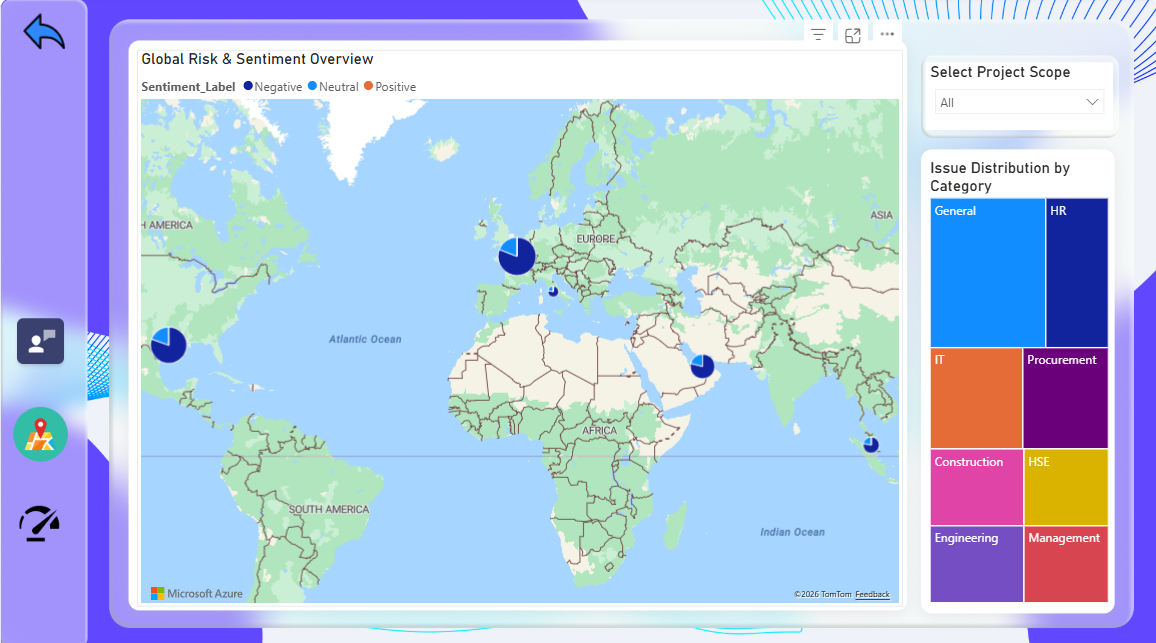

What the dashboard file says about the page in this screenshot:
{"tool":"powerbi","page":{"name":"Geographic Intelligence","canvas":[1280,720],"ordinal":1},"visuals":[{"type":"image","box":[10,0,1270,720],"z":0},{"type":"azureMap","title":"Global Risk & Sentiment Overview","fields":{"Y":["refined_ten_dashboard_data.Latitude"],"X":["refined_ten_dashboard_data.Longitude"],"Size":["refined_ten_dashboard_data.Avg Severity"],"Series":["refined_ten_dashboard_data.Sentiment_Label"]},"box":[158.6,58.6,841.4,612.9],"z":1000},{"type":"slicer","title":"Select Project Scope","fields":{"Values":["refined_ten_dashboard_data.Project_Code"]},"box":[1025.7,72.9,205.7,74.3],"z":2000},{"type":"treemap","title":"Issue Distribution by Category","fields":{"Group":["refined_ten_dashboard_data.AI_Predicted_Category"],"Values":["refined_ten_dashboard_data.Total Feedback"]},"box":[1025.7,178.6,205.7,492.9],"z":3000},{"type":"image","box":[22.9,438.6,60,84.3],"z":4000},{"type":"image","box":[30,522.9,44.3,112.9],"z":5000},{"type":"image","box":[22.9,327.1,60,111.4],"z":6000},{"type":"image","box":[32.9,18.6,50,40],"z":7000}]}

Visuals, with their boxes on the page's 1280x720 design canvas (x1, y1, x2, y2). These are canvas units, not pixel positions in the 1156x643 screenshot, which may show the page scaled, cropped or inside an application window:
image: bbox=(10, 0, 1280, 720)
"Global Risk & Sentiment Overview" azureMap: bbox=(159, 59, 1000, 672)
"Select Project Scope" slicer: bbox=(1026, 73, 1231, 147)
"Issue Distribution by Category" treemap: bbox=(1026, 179, 1231, 672)
image: bbox=(23, 439, 83, 523)
image: bbox=(30, 523, 74, 636)
image: bbox=(23, 327, 83, 438)
image: bbox=(33, 19, 83, 59)
